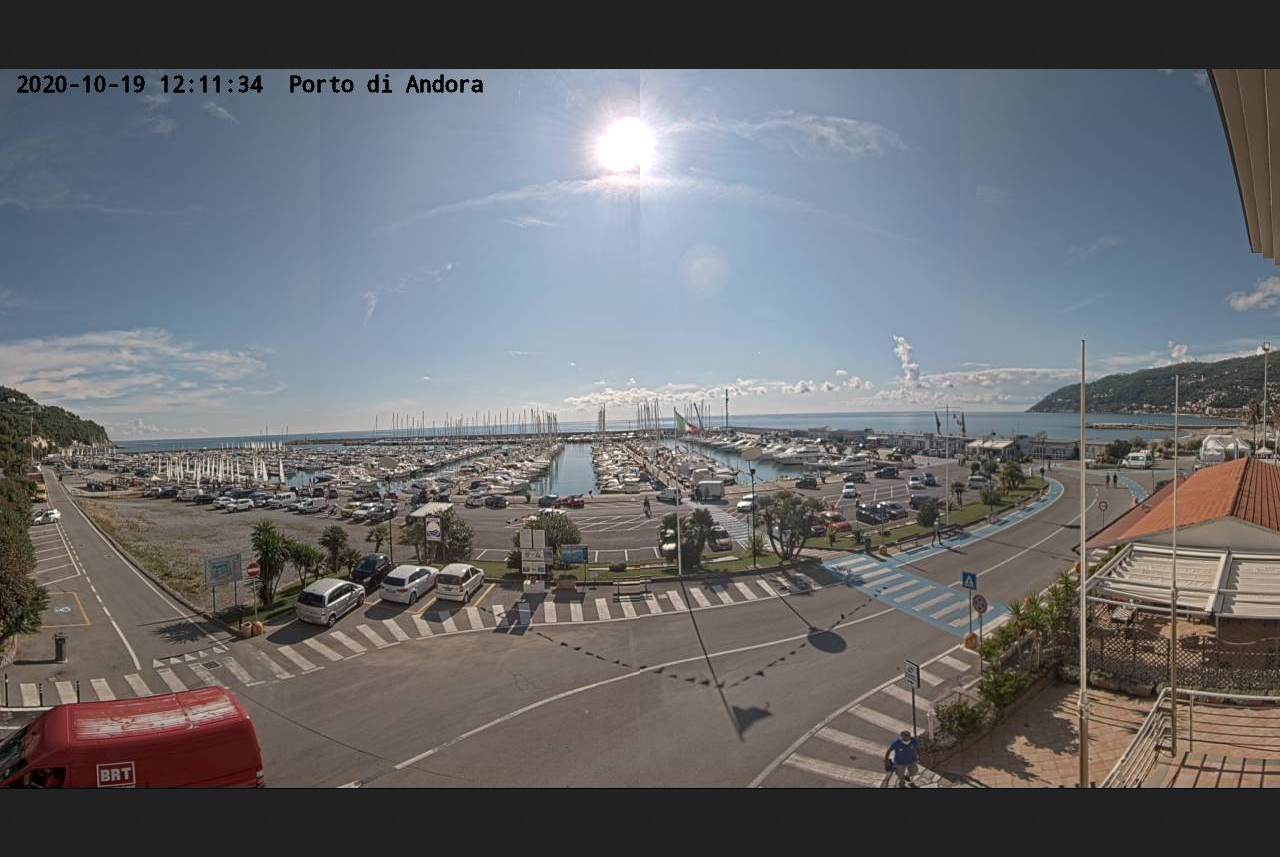maybe: (670, 404, 699, 436)
no: (929, 408, 945, 438), (954, 406, 969, 436)
